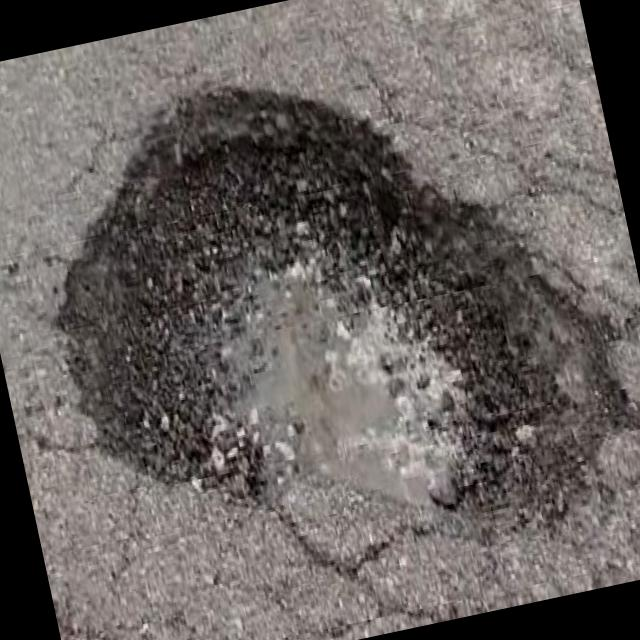Lubang: (58, 88, 639, 557)
